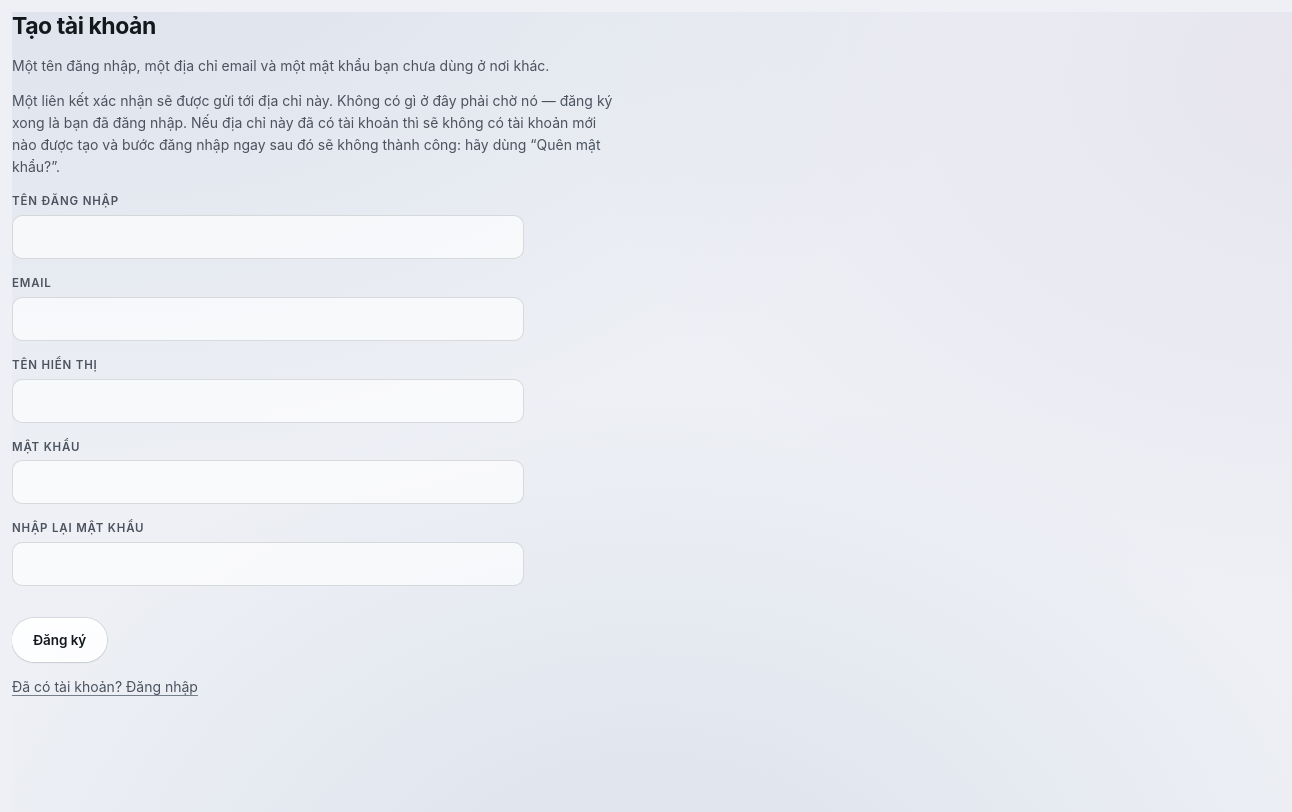
Scenario: RegisterPage on a server refusal › surfaces the sign-in failure that follows a taken-address registration (D26)
Type "kim.new-1" into the field labelled "Tên đăng nhập" at [268, 237], box [12, 215, 524, 259]
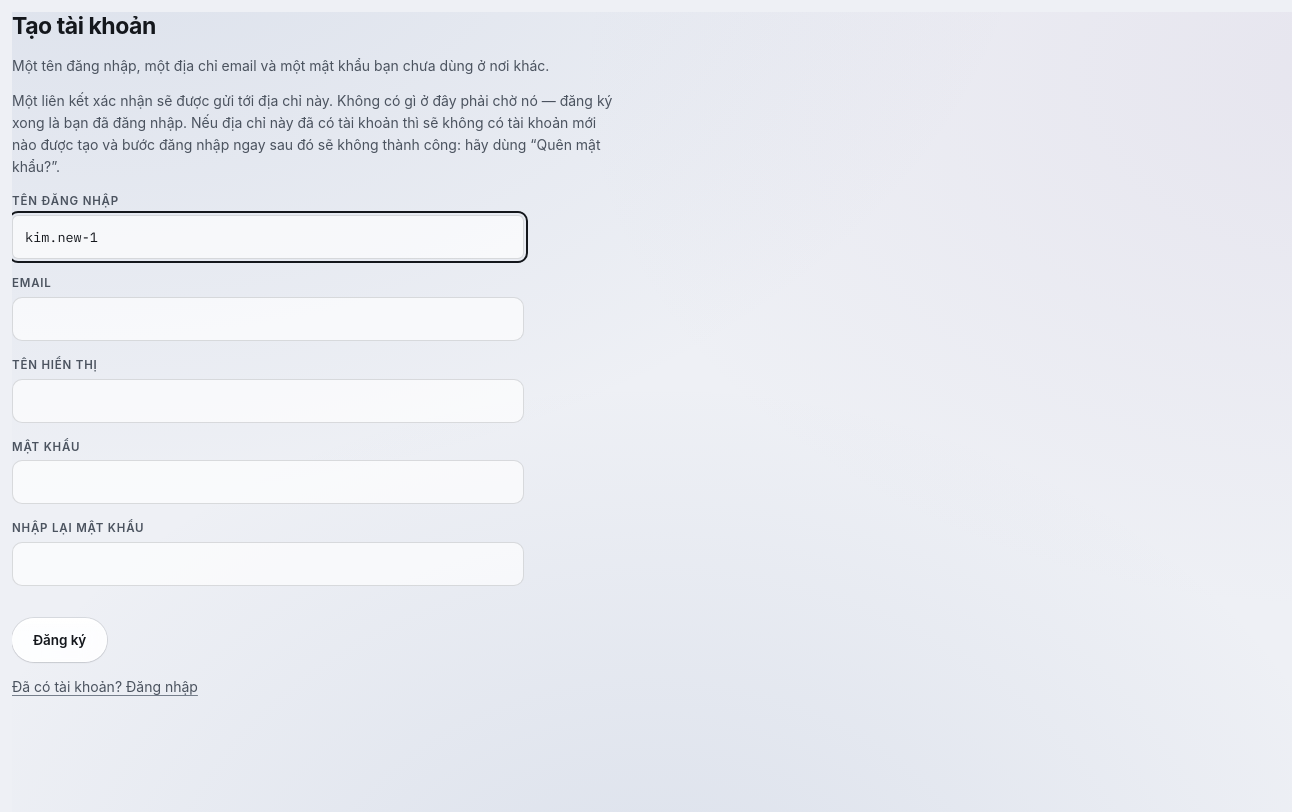
Type "kim@example.com" into the field labelled "Email" at [268, 319], box [12, 297, 524, 341]
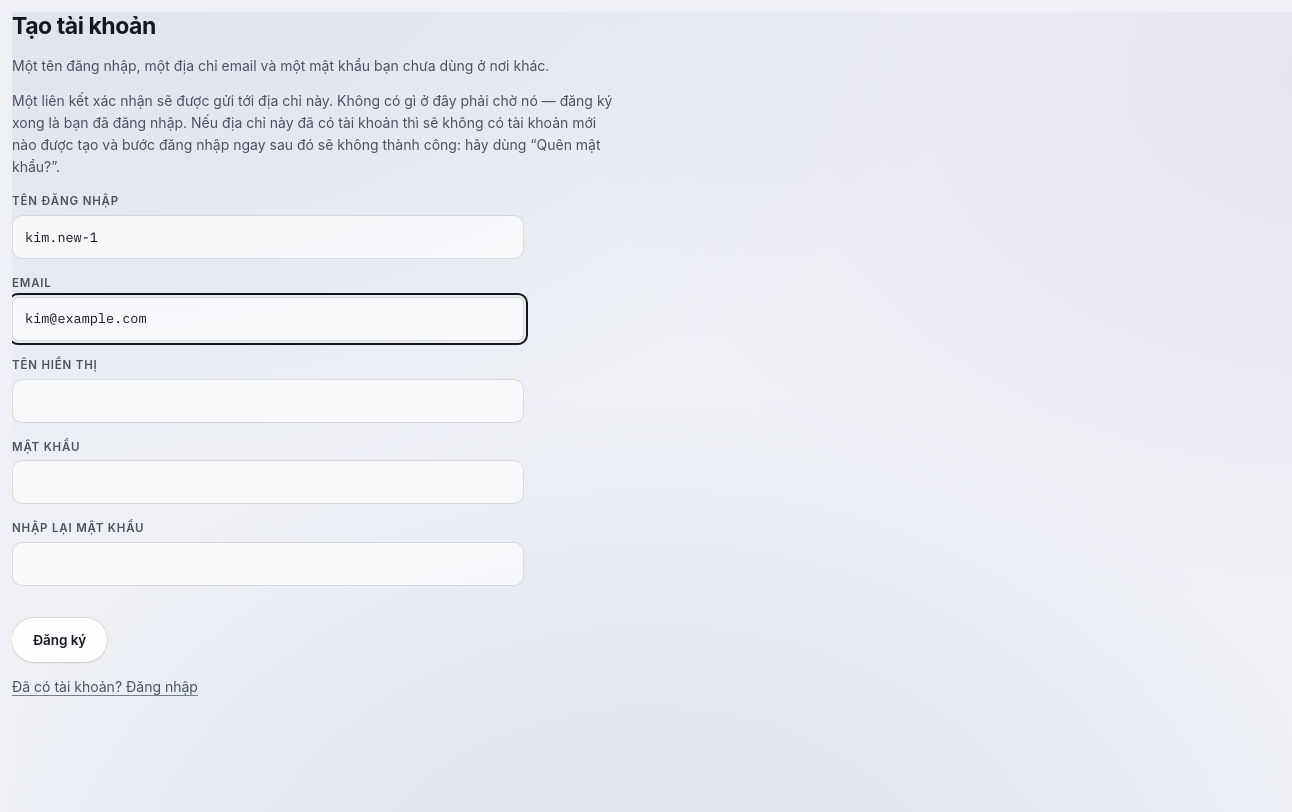
Type "Kim" into the field labelled "Tên hiển thị" at [268, 401], box [12, 379, 524, 423]
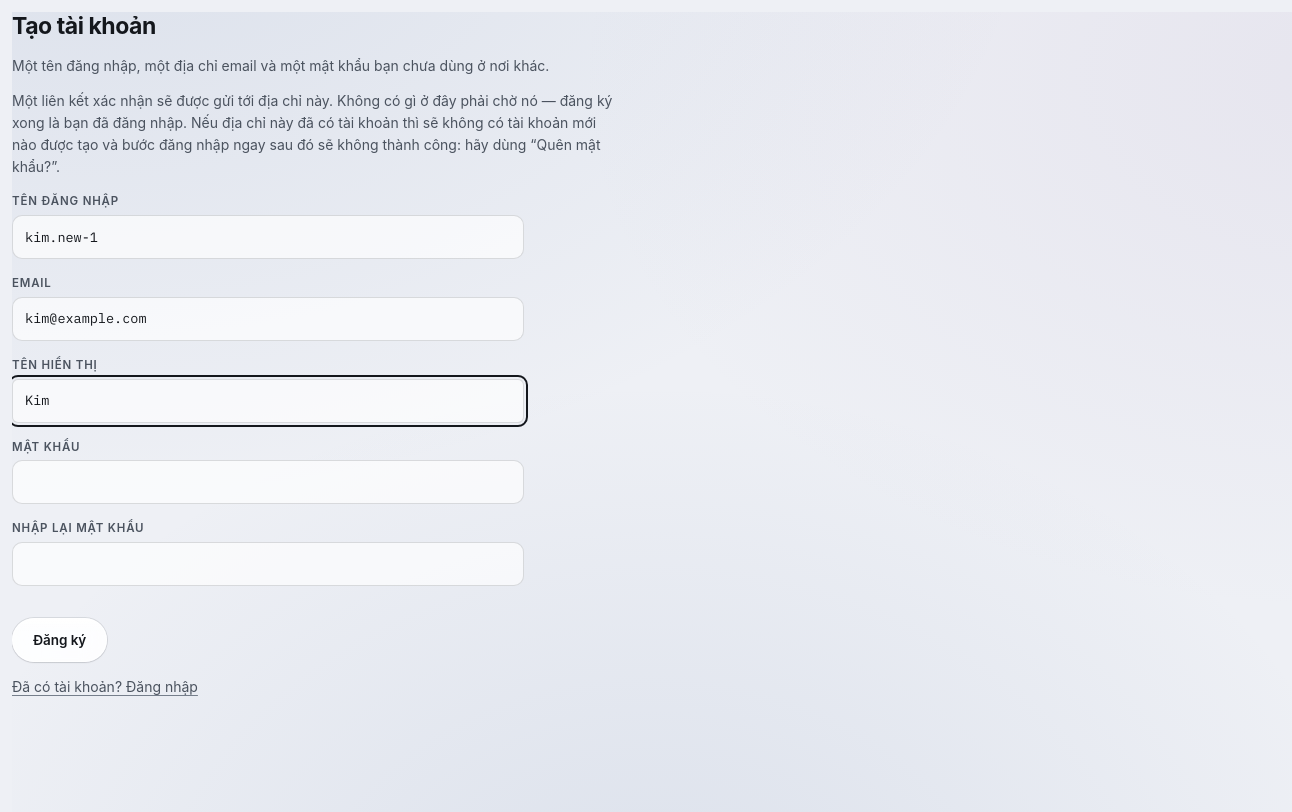
Type "a-long-enough-password" into the password field labelled "Mật khẩu" at [268, 482], box [12, 460, 524, 504]
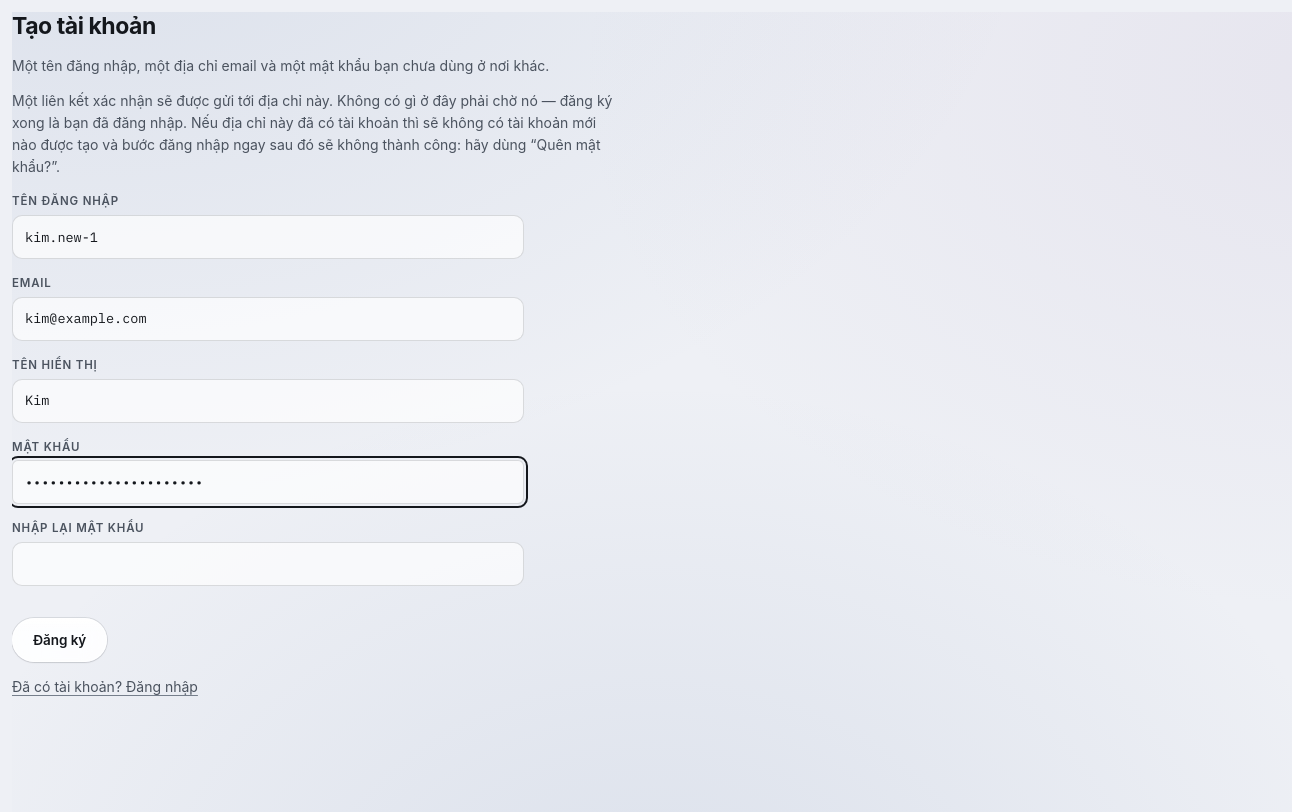
Type "a-long-enough-password" into the password field labelled "Nhập lại mật khẩu" at [268, 564], box [12, 542, 524, 586]
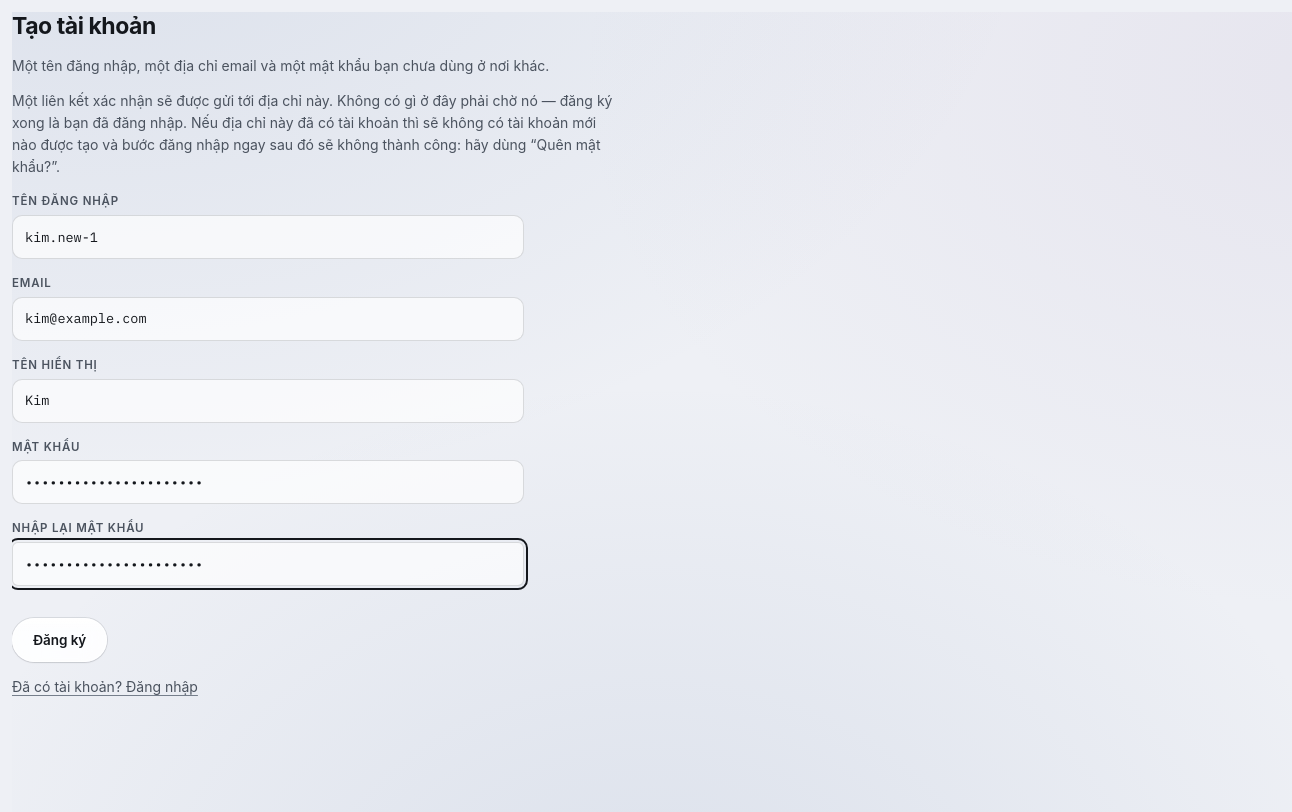
Click the button "Đăng ký" at [60, 640], box [12, 618, 107, 662]
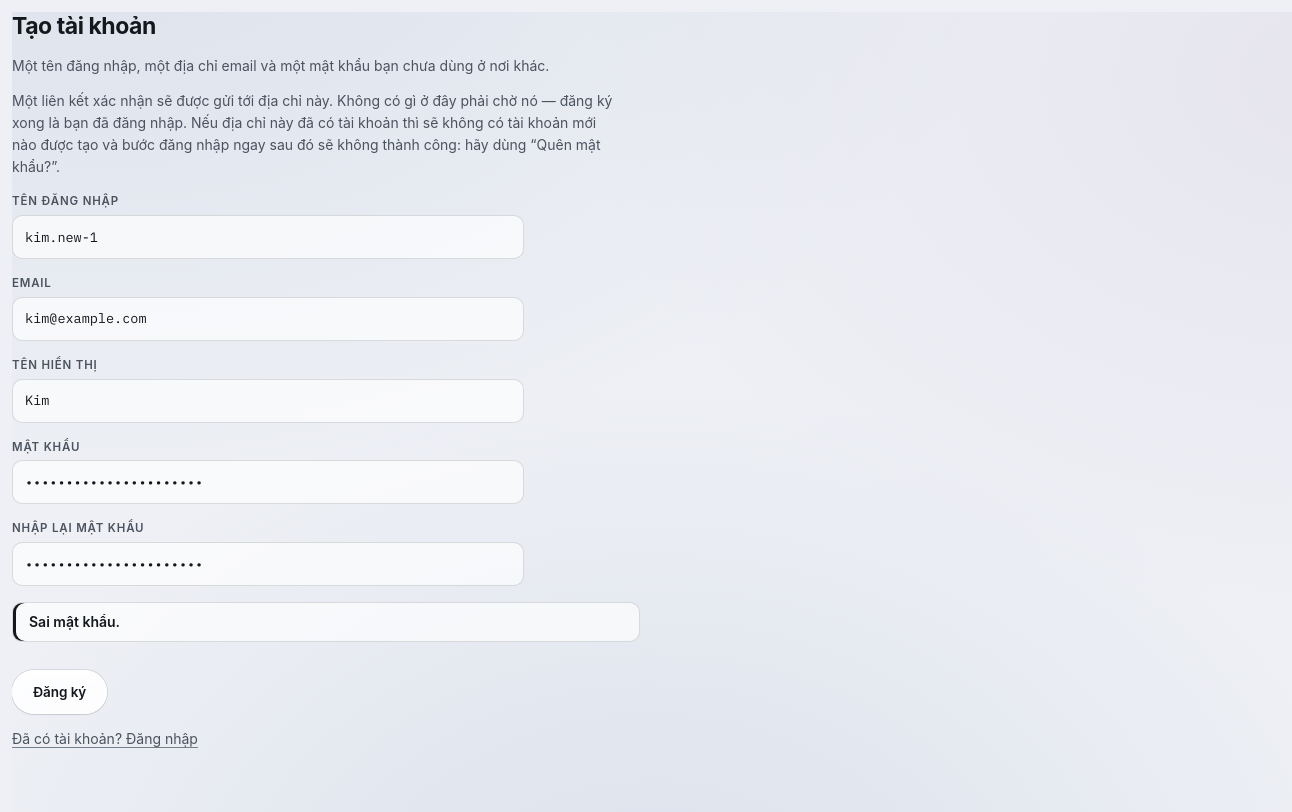
Check: the message reads "Sai mật khẩu.", box [29, 613, 120, 630]
